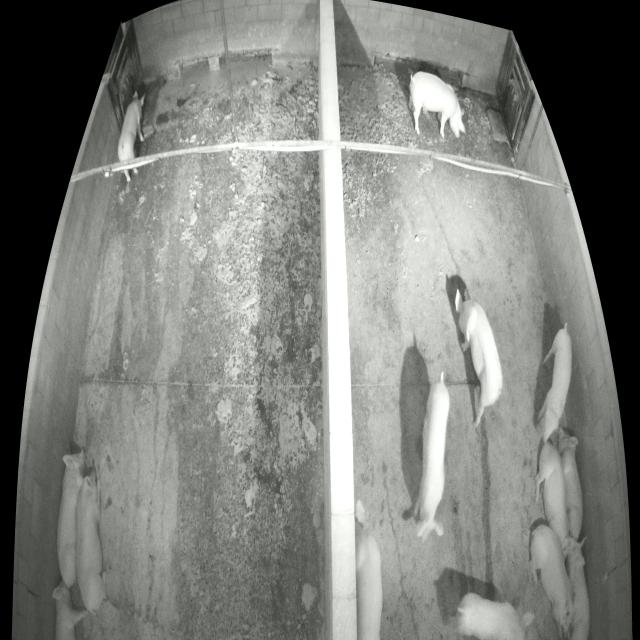pig: (455, 287, 503, 430), (412, 383, 449, 545), (529, 526, 579, 639), (75, 471, 106, 612), (537, 328, 572, 445), (56, 449, 85, 588), (354, 499, 382, 639), (408, 72, 465, 140), (535, 442, 568, 544), (457, 595, 538, 636), (556, 426, 584, 543), (563, 537, 590, 638), (118, 90, 145, 182), (51, 581, 88, 639)
